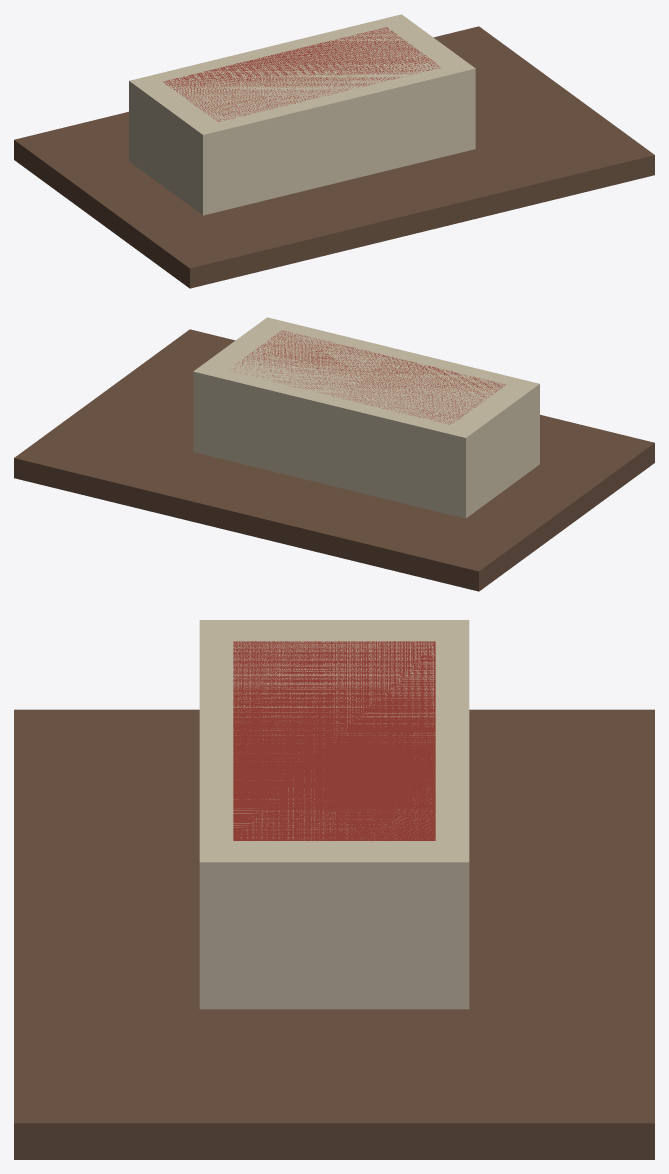
File: snack-serving-board.glb
3 views of the same model, one above another, from view 1: azimuth 30°, elevation 25°; view 2: azimuth 150°, elevation 25°; view 3: azimuth 270°, elevation 25° (orthographic). The views are drawn at different scales.
Visible parts, largest first — view 1: wood, paper, accent-warm; view 2: wood, paper, accent-warm; view 3: wood, paper, accent-warm.
Boxes of the visible parts, x1,y1,x2,y2 form: wood: [14, 26, 654, 288]; paper: [129, 14, 475, 215]; accent-warm: [163, 27, 440, 121]; wood: [14, 329, 654, 591]; paper: [193, 317, 539, 518]; accent-warm: [234, 330, 505, 424]; wood: [14, 709, 654, 1159]; paper: [199, 620, 469, 1009]; accent-warm: [233, 641, 435, 840].
Bounding box in the file's own units: 0.29 × 0.06 × 0.19.
